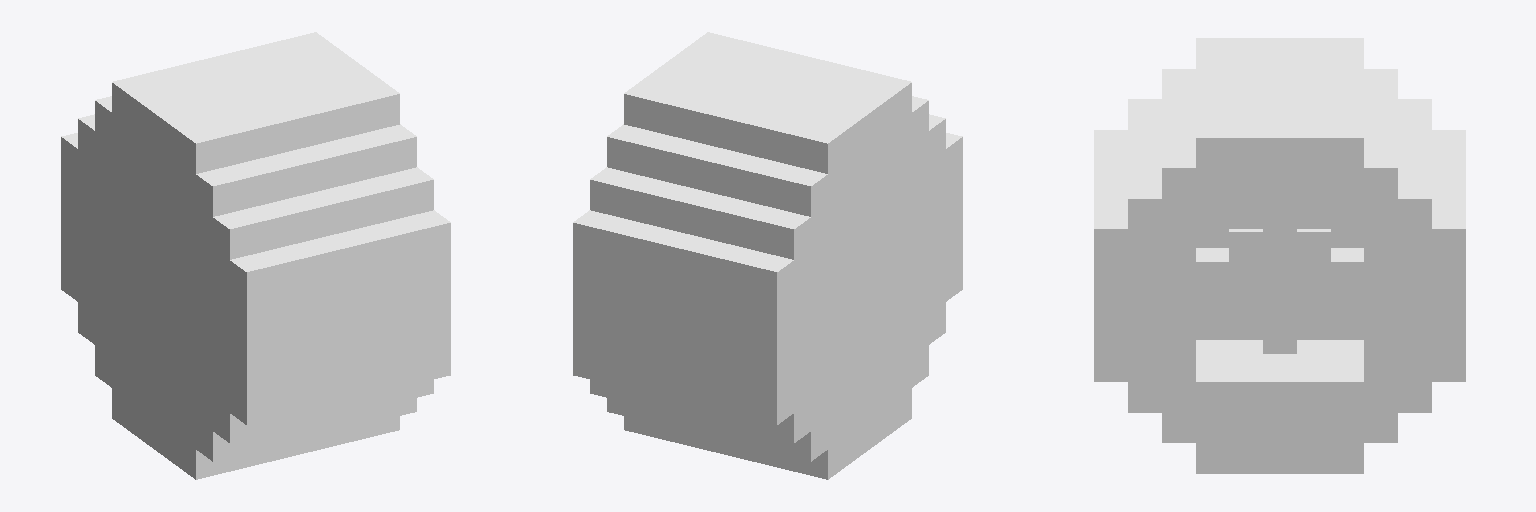
Rendered from BMW-ORANGE-1.obj.
The picture shows the model from 3 angles: view 1: azimuth 30°, elevation 25°; view 2: azimuth 150°, elevation 25°; view 3: azimuth 270°, elevation 25°; orthographic projection.
Parts seen in each view (by area): view 1: object 1; view 2: object 1; view 3: object 1.
Boxes of the visible parts, <box> form: object 1: <box>61,32,450,479</box>; object 1: <box>573,32,962,479</box>; object 1: <box>1094,38,1465,473</box>.
Size of the model in its own units: 7 by 11 by 11.